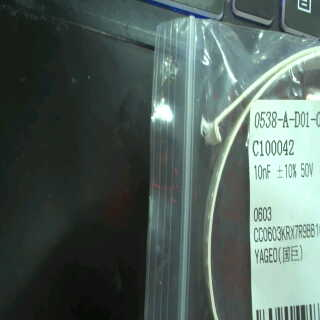10nF: (250, 160, 275, 180)
